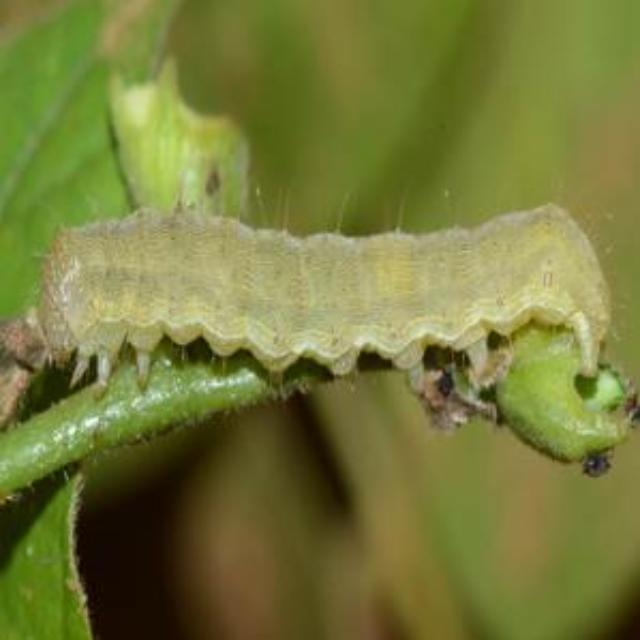Cotton bollworm: (27, 102, 628, 460)
